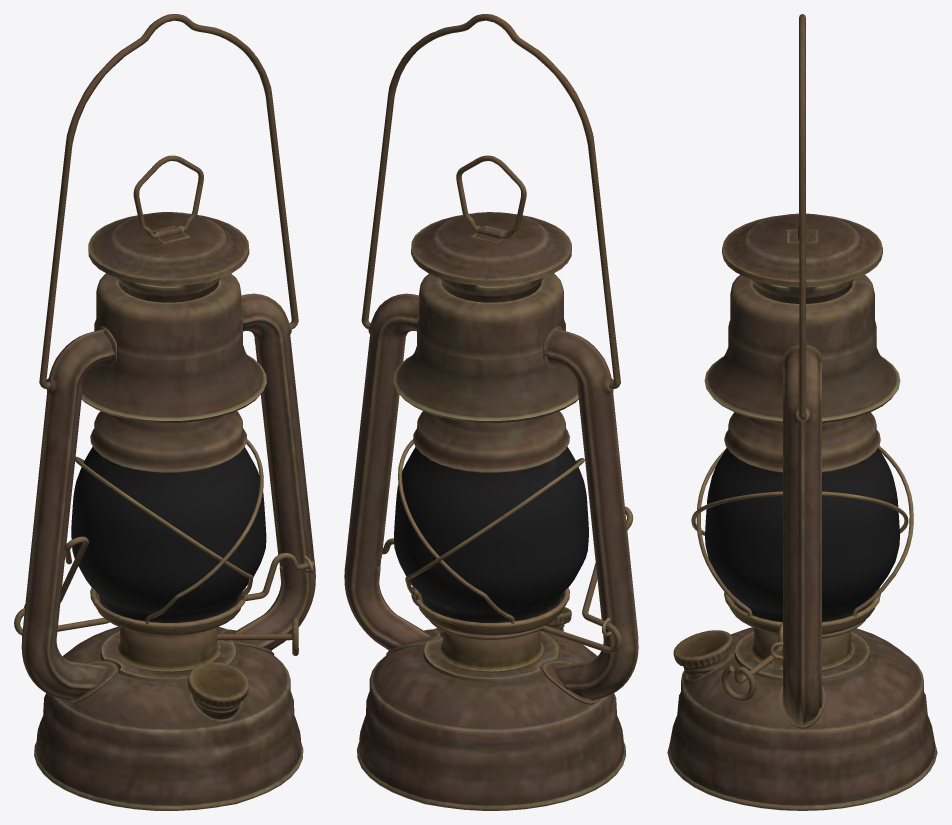
File: lantern-01-low.glb
3 views of the same model, side by side, from view 1: azimuth 30°, elevation 25°; view 2: azimuth 150°, elevation 25°; view 3: azimuth 270°, elevation 25° (orthographic).
Parts seen in each view (by area): view 1: Lantern_01, Lantern_01_glass; view 2: Lantern_01, Lantern_01_glass; view 3: Lantern_01, Lantern_01_glass.
Boxes of the visible parts, x1,y1,x2,y2 form: Lantern_01: (14, 14, 315, 810); Lantern_01_glass: (71, 446, 266, 622); Lantern_01: (344, 14, 638, 810); Lantern_01_glass: (394, 446, 588, 622); Lantern_01: (667, 14, 937, 810); Lantern_01_glass: (705, 447, 899, 622).
Bounding box in the file's own units: 0.1221 × 0.2942 × 0.0977.
Materials: 2 (2 with a texture image).
